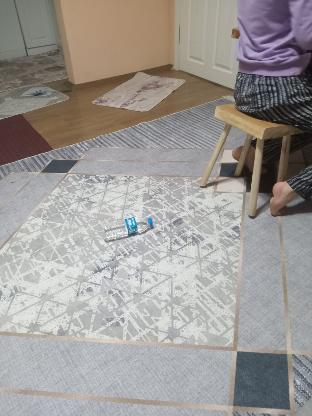Plastic Bottle: (94, 213, 160, 241)
